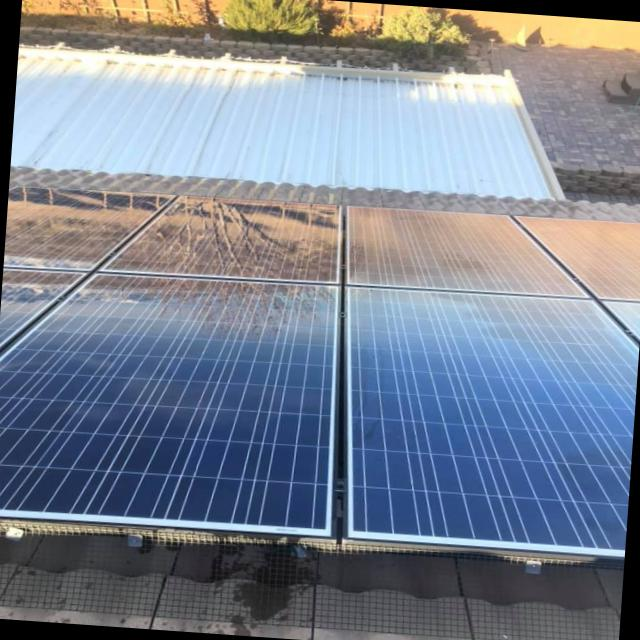faulty: (1, 182, 528, 360)
no faulty: (0, 325, 637, 548)
